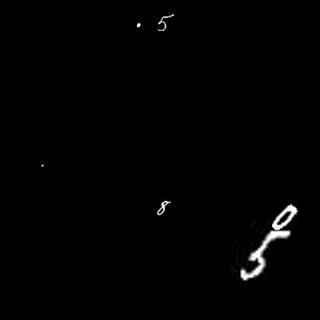dot: (39, 160, 48, 170), (135, 21, 143, 31)
eight: (154, 195, 176, 216)
five: (242, 229, 291, 281), (156, 12, 176, 32)
zero: (271, 202, 301, 229)
